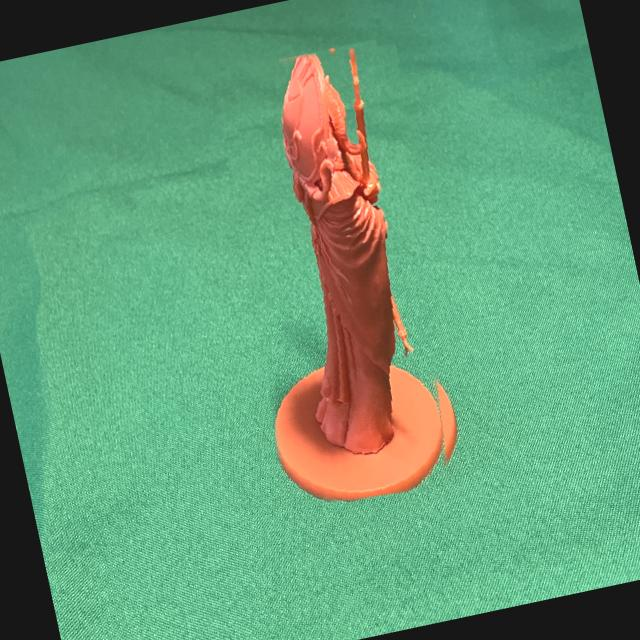amon: (201, 34, 478, 516)
